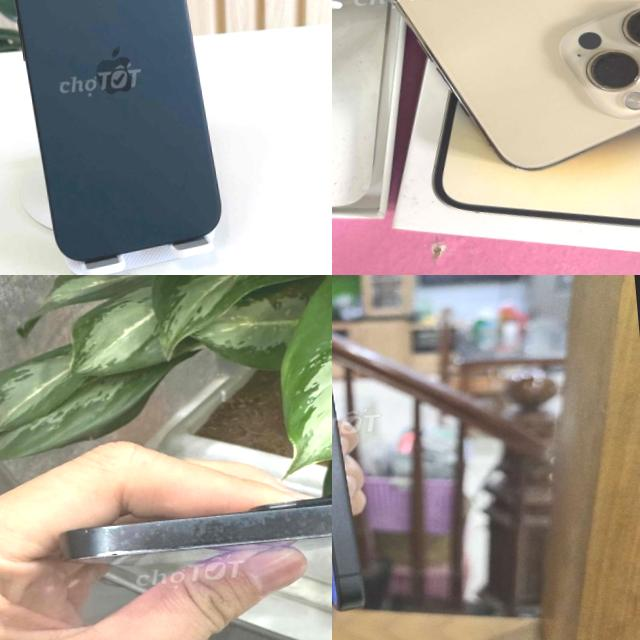scratch: (56, 494, 332, 564)
